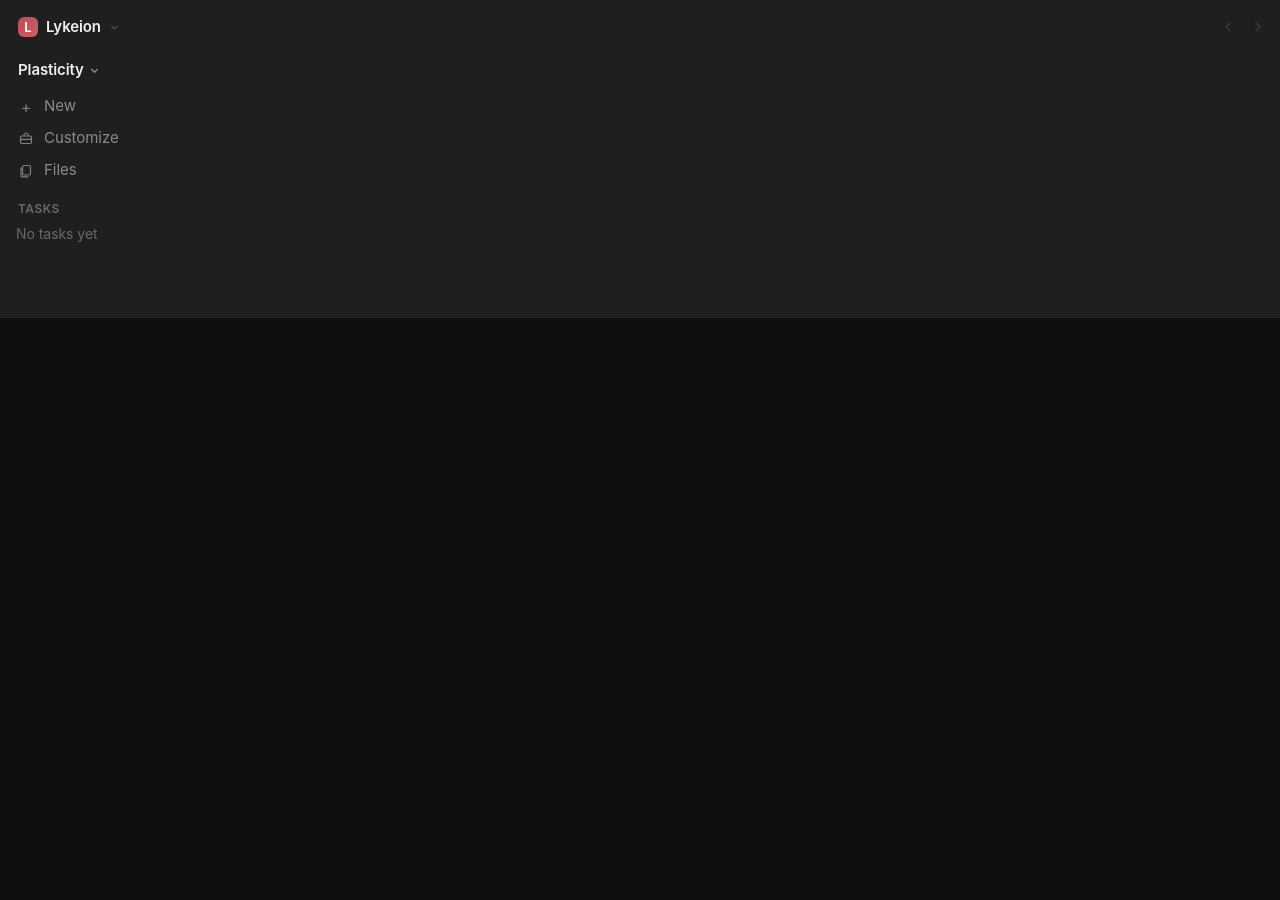
Settings modal › opens from Customize with the settings nav and General tab
What coordinates should you click on to do the following:
click the button "Customize"
I would click on:
 (81, 138)
Its box is [10,122,1270,154].
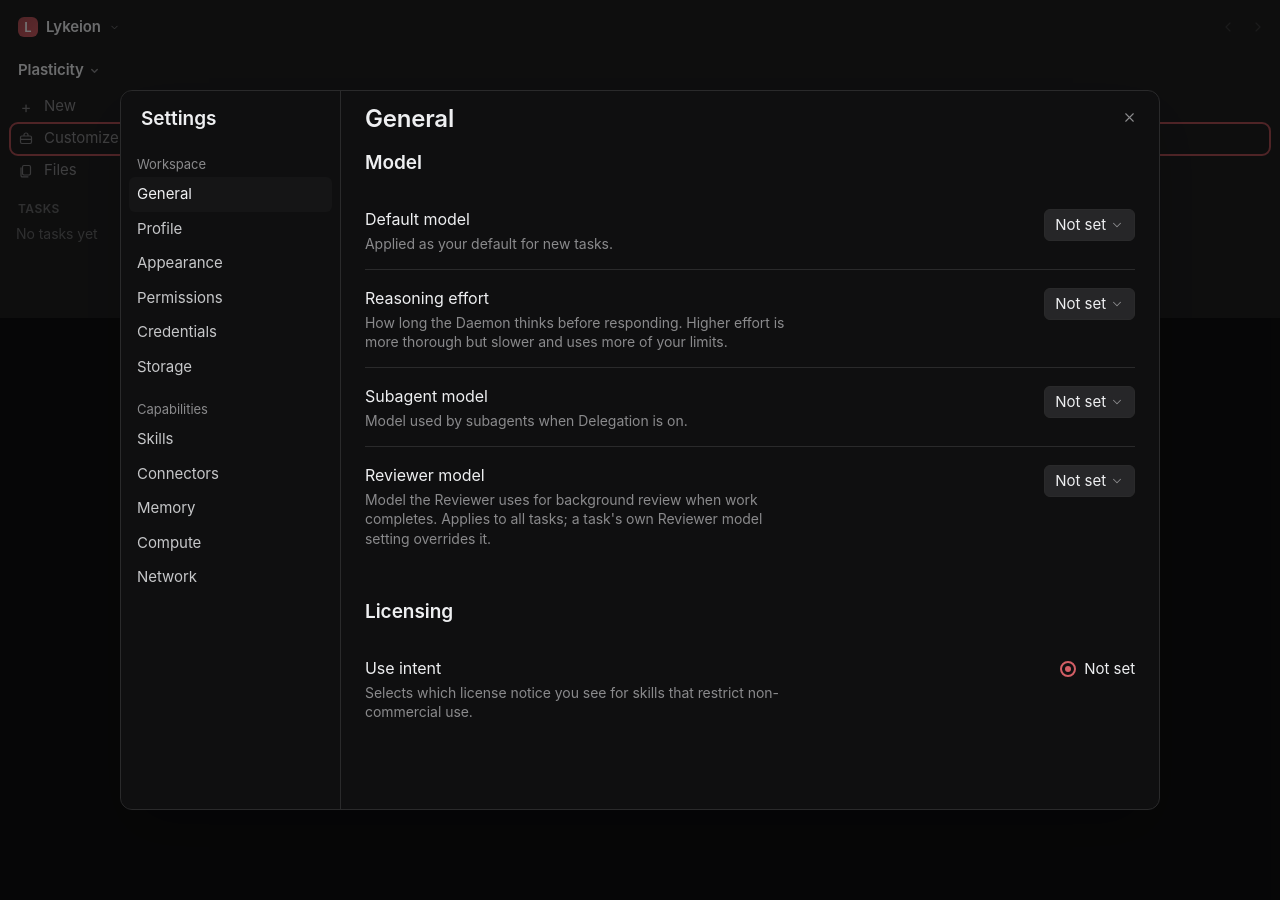
Expected: the text "Capabilities" is shown, [137,401,208,417]
Expected: the button "Credentials" is shown, [129,315,332,350]
Expected: the heading "Model" is shown, [365,151,422,175]
